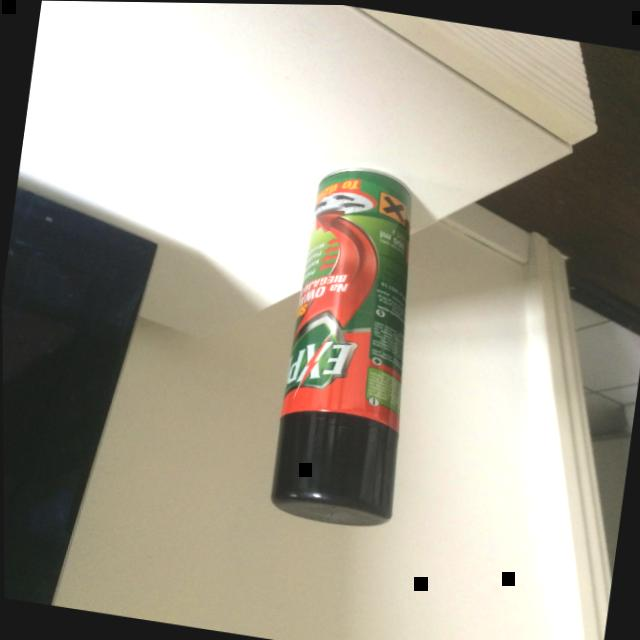Aerosol: (269, 166, 411, 525)
Plastic lid: (269, 410, 398, 525)
